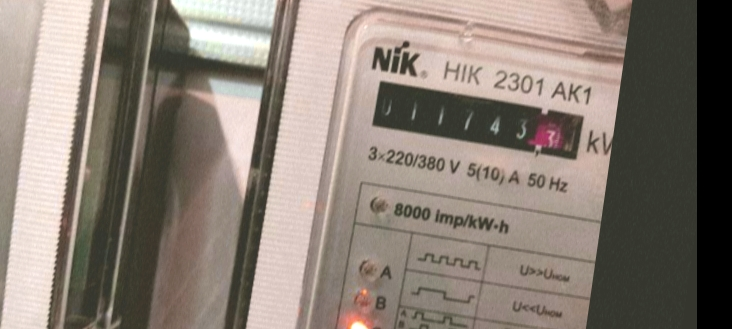0: (376, 89, 394, 118)
1: (403, 93, 421, 123), (430, 98, 447, 128)
3: (510, 113, 528, 142), (538, 127, 556, 150)
4: (485, 111, 502, 137)
7: (457, 105, 475, 132)
screen: (360, 74, 593, 169)
